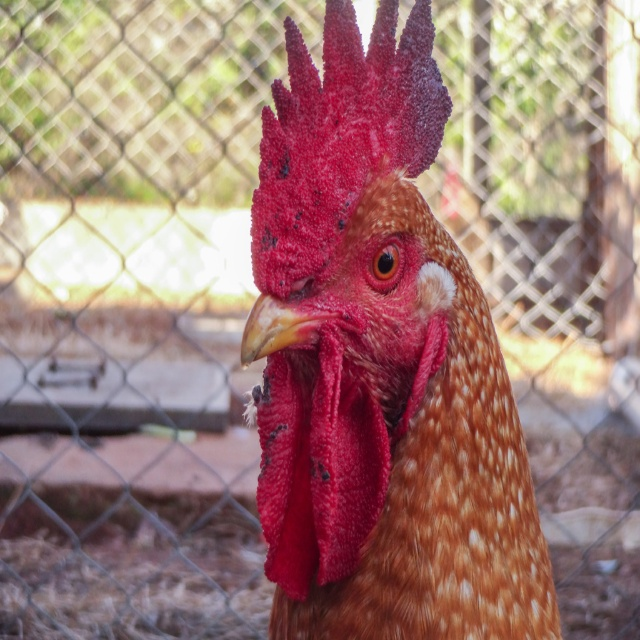Chicken: (239, 0, 561, 639)
